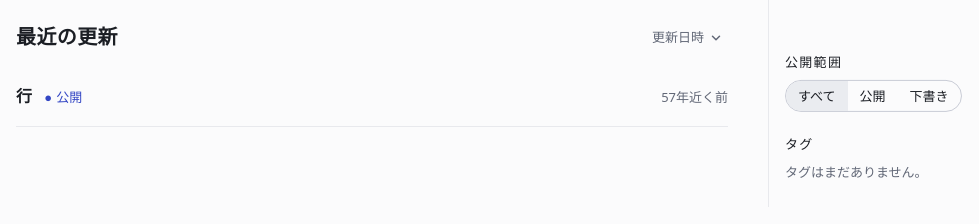
it: HomeView の並び順 › 見出しの右に今の並びの名前を出し、選び直すとその並びで取り直して見出しも変える
The image size is (979, 224).
Check: the list with class "entries" is shown, box [16,67,728,127]
Check: the heading "最近の更新" is shown, box [16,26,118,48]
Click the button "更新日時": {"x": 686, "y": 38} [644,24,728,50]
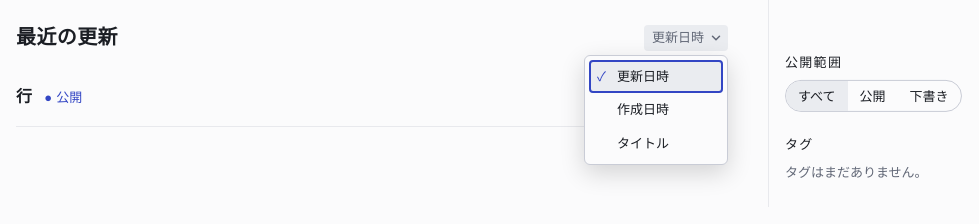
Click the menu item "タイトル": {"x": 656, "y": 143} [589,127,723,160]
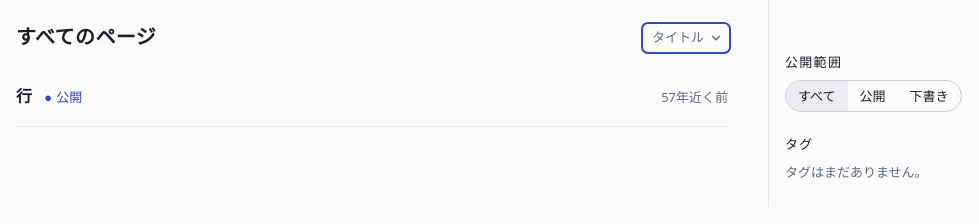
Check: the menu is gone
Check: the heading "すべてのページ" is shown, box [16,26,156,48]
